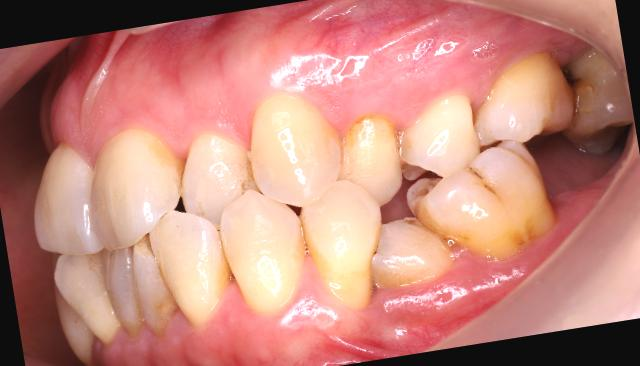canine class III 1/4: (198, 68, 400, 328)
molar class III full class: (408, 46, 596, 285)
